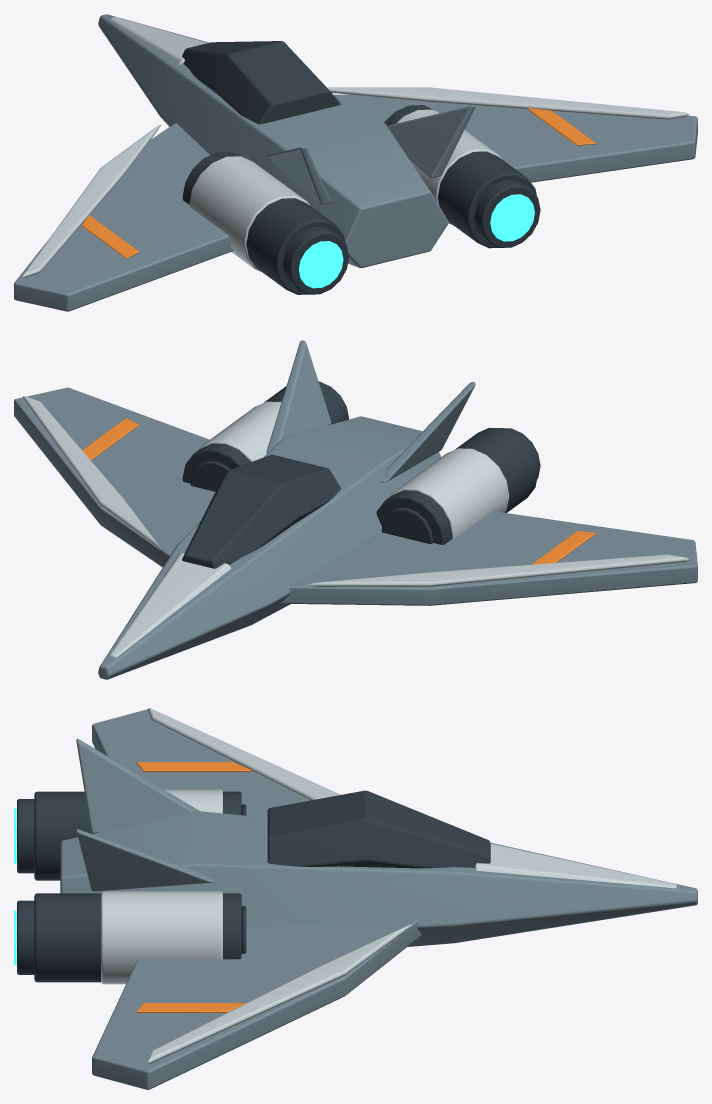
Rendered from test_fighter.glb.
The picture shows the model from 3 angles, top to bottom: view 1: azimuth 30°, elevation 25°; view 2: azimuth 150°, elevation 25°; view 3: azimuth 270°, elevation 25°; orthographic projection. The views are drawn at different scales.
Visible parts, largest first — view 1: Fuselage_Main, Wing_Left, Wing_Right, Cockpit_Frame, Engine_Left_Armor, Engine_Left_Housing, Engine_Right_Housing, Wing_Right_Leading_Armor, Tail_Fin_Right, Wing_Left_Leading_Armor, Engine_Right_Rear_Nozzle, Engine_Left_Rear_Nozzle (+7 smaller); view 2: Fuselage_Main, Wing_Left, Wing_Right, Cockpit_Frame, Engine_Left_Armor, Engine_Left_Housing, Wing_Left_Leading_Armor, Nose_Armor, Tail_Fin_Right, Wing_Right_Leading_Armor, Tail_Fin_Left, Engine_Right_Armor (+5 smaller); view 3: Fuselage_Main, Wing_Right, Cockpit_Frame, Engine_Right_Armor, Wing_Left, Engine_Right_Housing, Tail_Fin_Left, Tail_Fin_Right, Wing_Right_Leading_Armor, Engine_Left_Housing, Nose_Armor, Wing_Left_Leading_Armor (+5 smaller).
Boxes of the visible parts, left/top/right/bottom form: Fuselage_Main: left=98, top=14, right=448, bottom=267; Wing_Left: left=14, top=123, right=233, bottom=311; Wing_Right: left=333, top=94, right=697, bottom=182; Cockpit_Frame: left=182, top=41, right=340, bottom=124; Engine_Left_Armor: left=189, top=156, right=310, bottom=271; Engine_Left_Housing: left=182, top=151, right=345, bottom=294; Engine_Right_Housing: left=384, top=105, right=536, bottom=248; Wing_Right_Leading_Armor: left=327, top=87, right=688, bottom=119; Tail_Fin_Right: left=387, top=105, right=475, bottom=177; Wing_Left_Leading_Armor: left=22, top=124, right=160, bottom=277; Engine_Right_Rear_Nozzle: left=474, top=180, right=540, bottom=247; Engine_Left_Rear_Nozzle: left=282, top=226, right=348, bottom=294; Fuselage_Main: left=98, top=416, right=440, bottom=679; Wing_Left: left=281, top=511, right=697, bottom=605; Wing_Right: left=14, top=387, right=215, bottom=567; Cockpit_Frame: left=182, top=454, right=340, bottom=568; Engine_Left_Armor: left=388, top=448, right=509, bottom=538; Engine_Left_Housing: left=376, top=427, right=538, bottom=544; Wing_Left_Leading_Armor: left=308, top=554, right=688, bottom=586; Nose_Armor: left=110, top=553, right=231, bottom=657; Tail_Fin_Right: left=266, top=340, right=331, bottom=453; Wing_Right_Leading_Armor: left=22, top=396, right=160, bottom=549; Tail_Fin_Left: left=381, top=382, right=475, bottom=482; Engine_Right_Armor: left=197, top=401, right=281, bottom=461; Fuselage_Main: left=60, top=811, right=697, bottom=946; Wing_Right: left=92, top=920, right=421, bottom=1089; Cockpit_Frame: left=267, top=790, right=490, bottom=868; Engine_Right_Armor: left=101, top=891, right=222, bottom=984; Wing_Left: left=92, top=709, right=308, bottom=817; Engine_Right_Housing: left=34, top=893, right=241, bottom=982; Tail_Fin_Left: left=76, top=738, right=199, bottom=833; Tail_Fin_Right: left=76, top=829, right=214, bottom=891; Wing_Right_Leading_Armor: left=148, top=924, right=411, bottom=1063; Engine_Left_Housing: left=34, top=791, right=241, bottom=880; Nose_Armor: left=475, top=843, right=676, bottom=888; Wing_Left_Leading_Armor: left=148, top=708, right=340, bottom=800.
Size of what is drawn, in the model's own units: 8.28 by 1.63 by 6.6.
